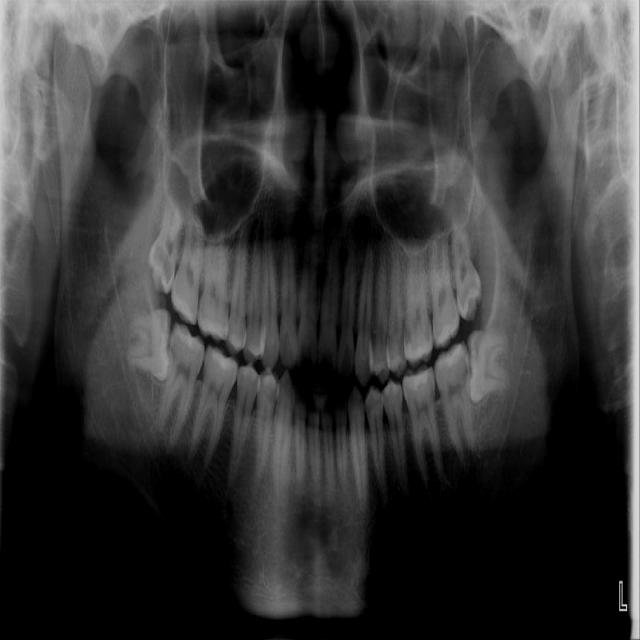Caries: (405, 327, 411, 341)
Filling: (403, 372, 433, 391), (213, 350, 234, 368)
impacted tooth: (471, 332, 523, 405), (119, 310, 169, 381), (146, 192, 181, 292)
